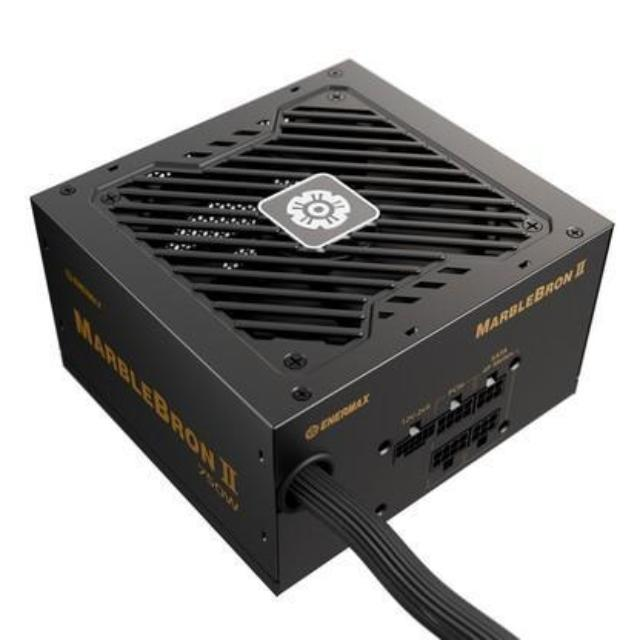PSU: (25, 49, 620, 602)
